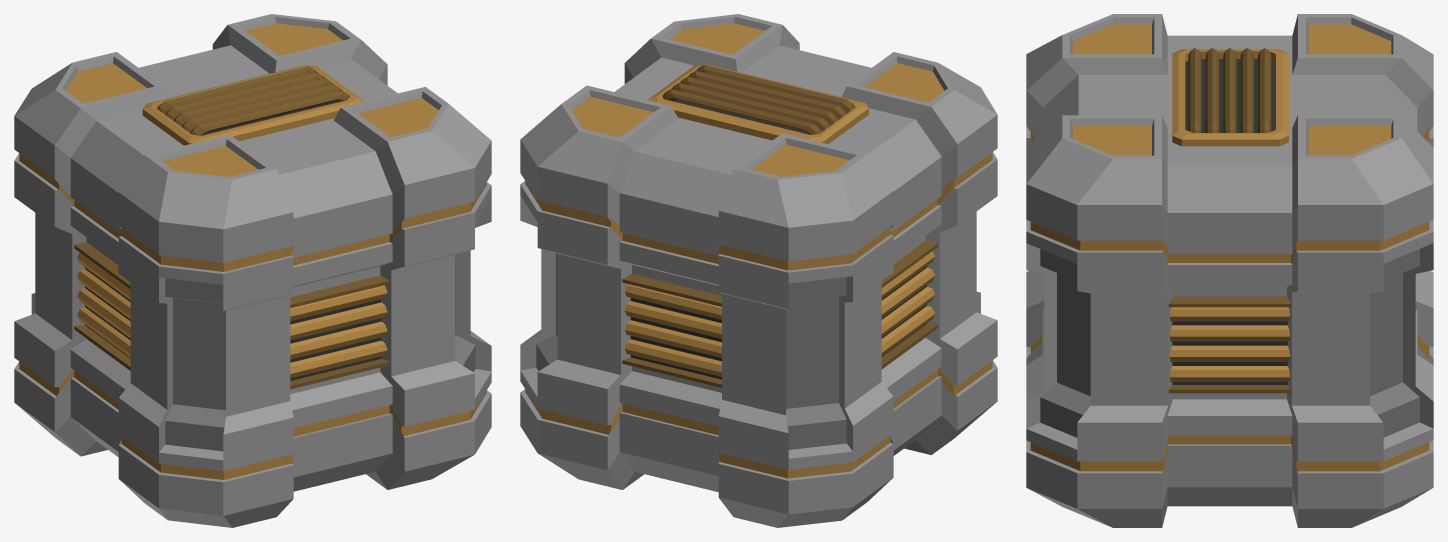
The model's file is Lab_Props_Crate.gltf.
3 renders of one model, left to right at view 1: azimuth 30°, elevation 25°; view 2: azimuth 150°, elevation 25°; view 3: azimuth 270°, elevation 25°, orthographic. The views are drawn at different scales.
Parts seen in each view (by area): view 1: Lab_Props_Crate; view 2: Lab_Props_Crate; view 3: Lab_Props_Crate.
Part boxes in pixels (x1,y1,x2,y2): Lab_Props_Crate: [14, 14, 491, 527]; Lab_Props_Crate: [520, 14, 997, 527]; Lab_Props_Crate: [1026, 14, 1433, 527].
Bounding box in the file's own units: 0.7421 × 0.75 × 0.7422.
